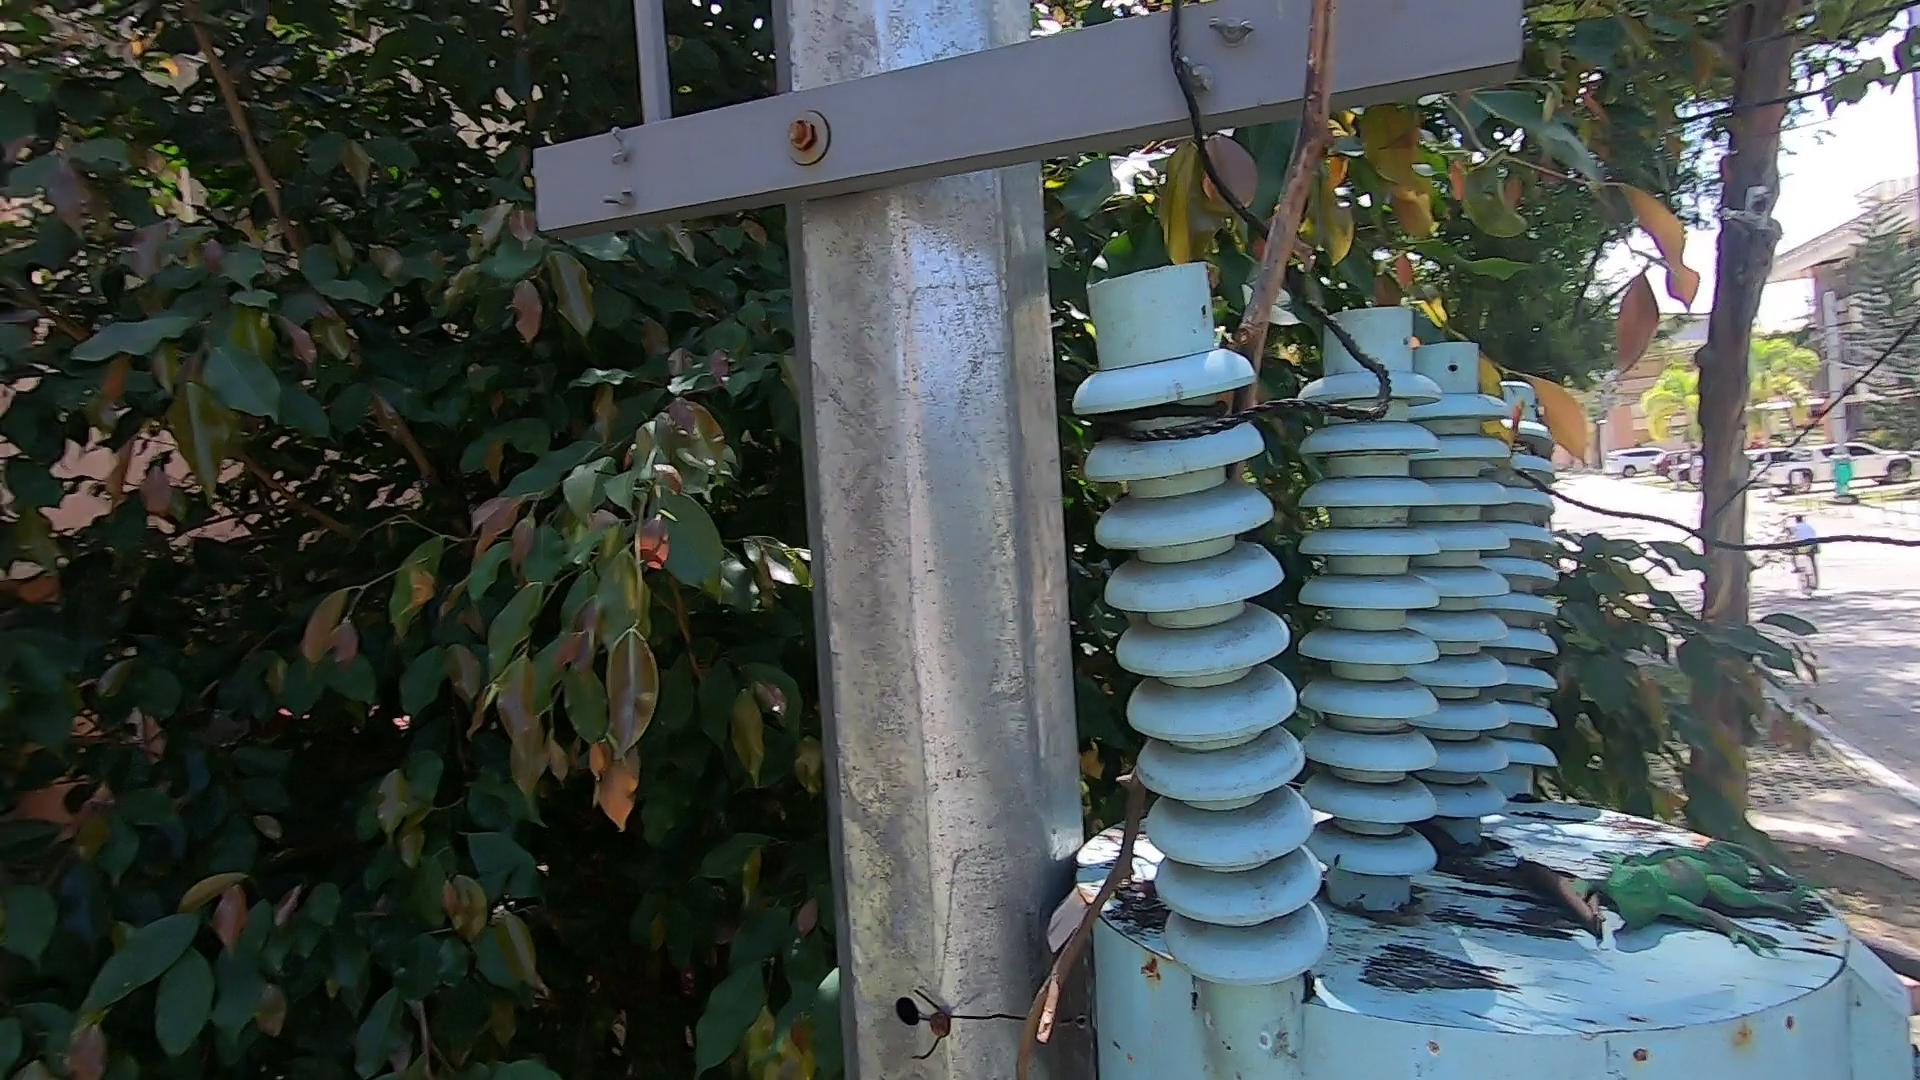branch with leaves: (1427, 316, 1635, 477)
leaf: (1501, 857, 1606, 944), (1116, 858, 1167, 930), (1431, 828, 1485, 880)
tree branch: (951, 3, 1393, 1059)
